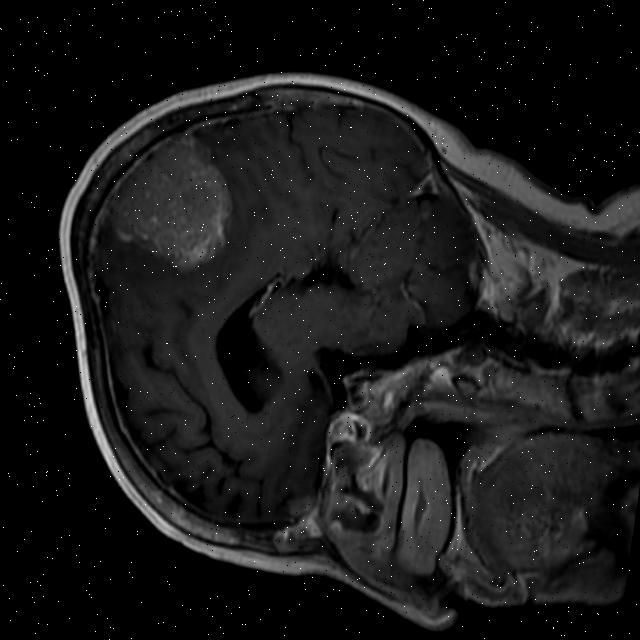Meningioma: (100, 115, 245, 281)
